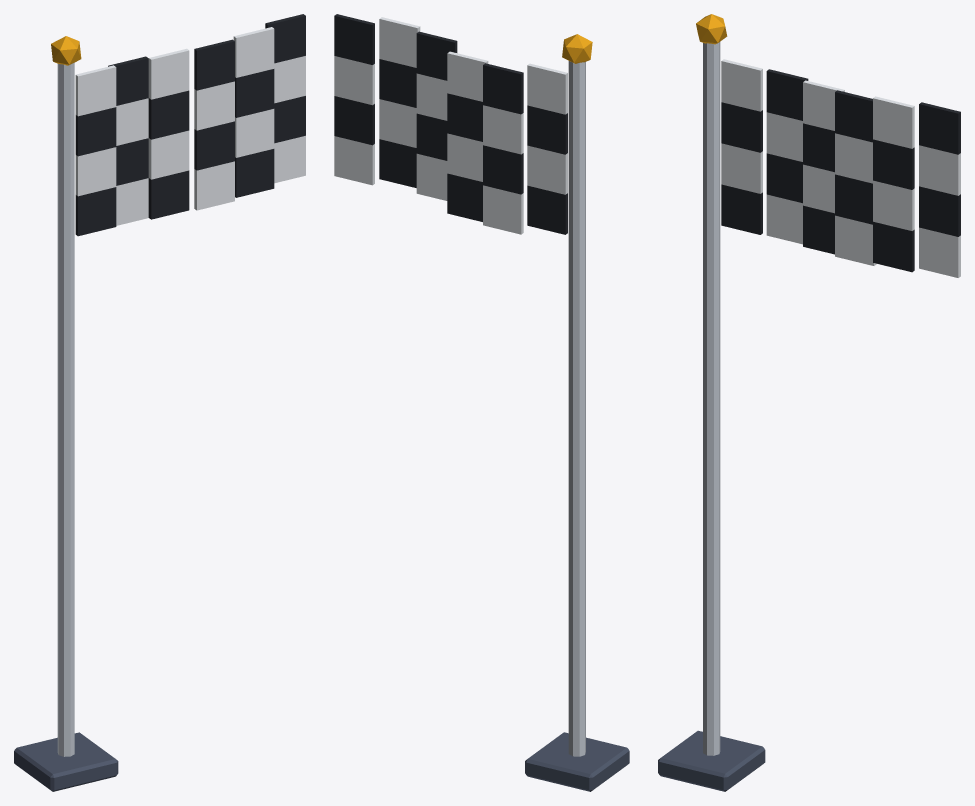
The model's file is FlagPole_Checker.fbx.
3 renders of one model, left to right at view 1: azimuth 30°, elevation 25°; view 2: azimuth 150°, elevation 25°; view 3: azimuth 330°, elevation 25°, orthographic. The views are drawn at different scales.
Parts seen in each view (by area): view 1: FlagPole_Checker; view 2: FlagPole_Checker; view 3: FlagPole_Checker.
Part boxes in pixels (left/top/right/bottom): FlagPole_Checker: left=14, top=14, right=305, bottom=791; FlagPole_Checker: left=334, top=14, right=629, bottom=791; FlagPole_Checker: left=658, top=14, right=960, bottom=791.
Bounding box in the file's own units: 6.45 × 16.55 × 1.6.
Materials: 1 (1 with a texture image).
